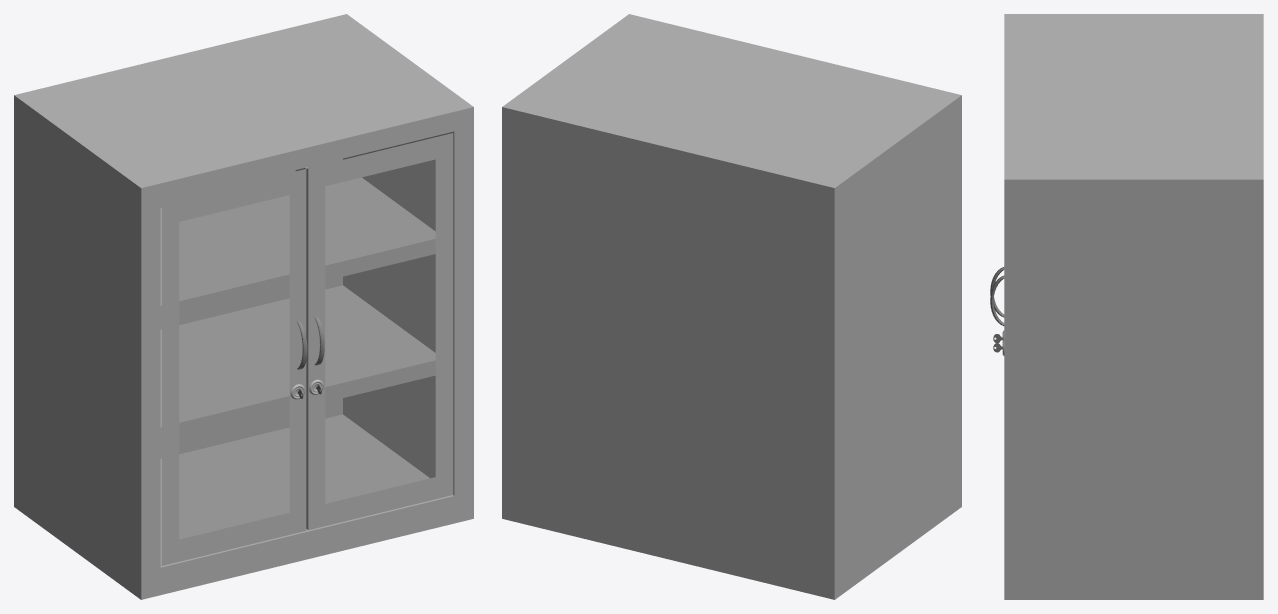
The model's file is tunho.glb.
3 renders of one model, left to right at view 1: azimuth 30°, elevation 25°; view 2: azimuth 150°, elevation 25°; view 3: azimuth 270°, elevation 25°, orthographic. The views are drawn at different scales.
Parts seen in each view (by area): view 1: Cube.004; view 2: Cube.004; view 3: Cube.004.
Part boxes in pixels (box(x1,y1,x2,y2)): Cube.004: box(14, 14, 473, 599); Cube.004: box(502, 14, 961, 599); Cube.004: box(1004, 14, 1263, 599).
Bounding box in the file's own units: 0.7931 × 0.9379 × 0.5529.
Materials: 5 (3 with a texture image).
